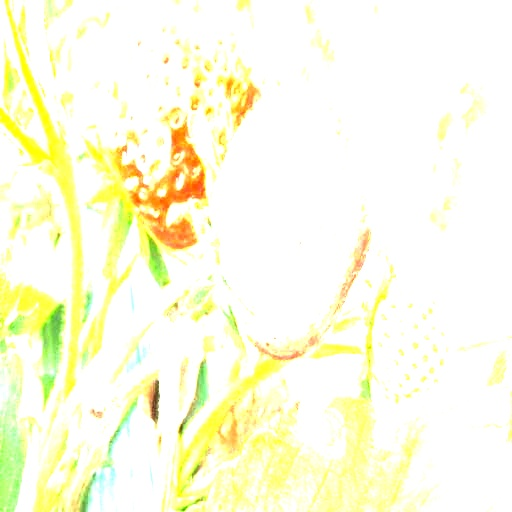Gray Mold: (210, 89, 368, 356)
